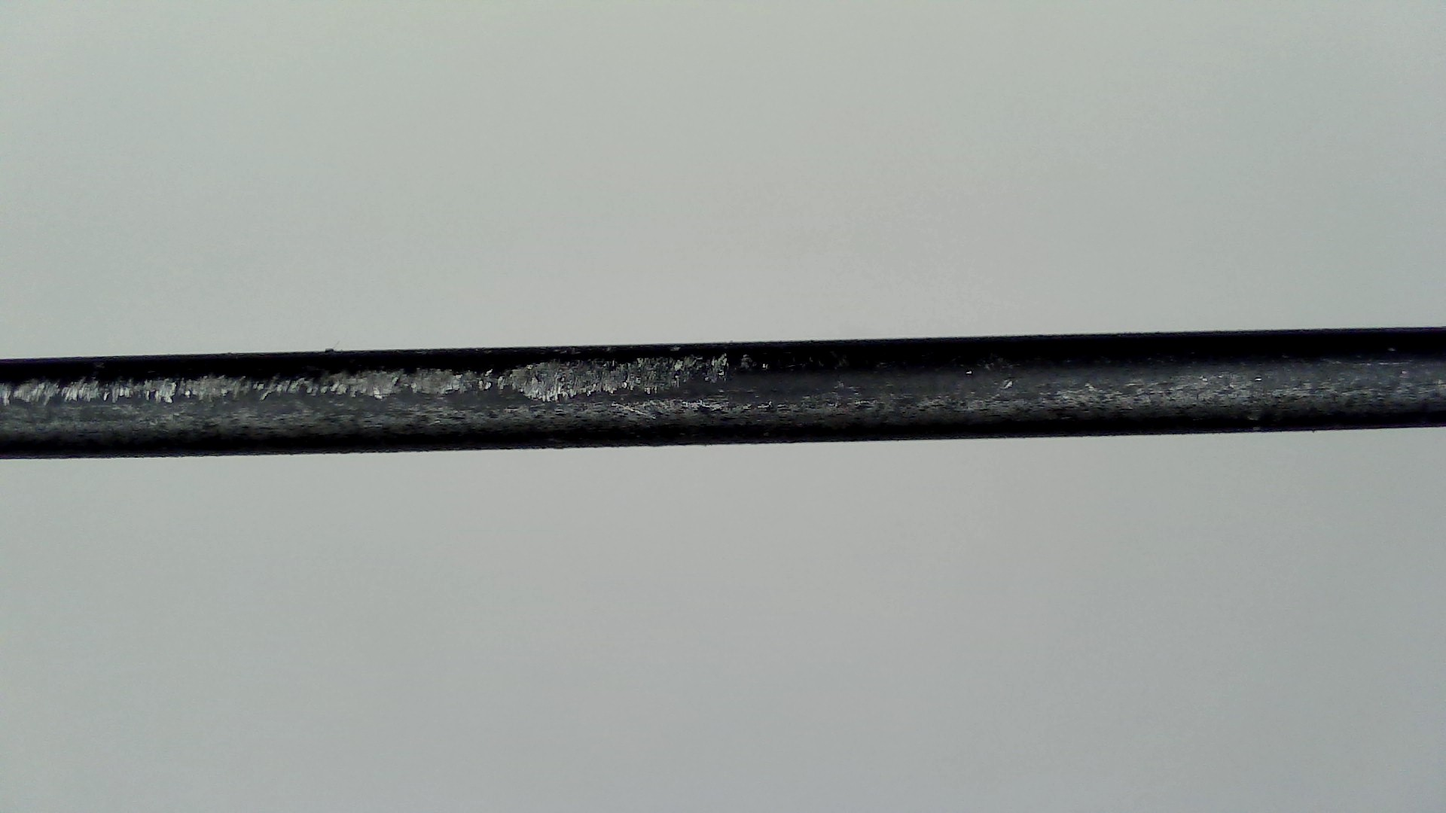defect: (18, 347, 764, 413)
